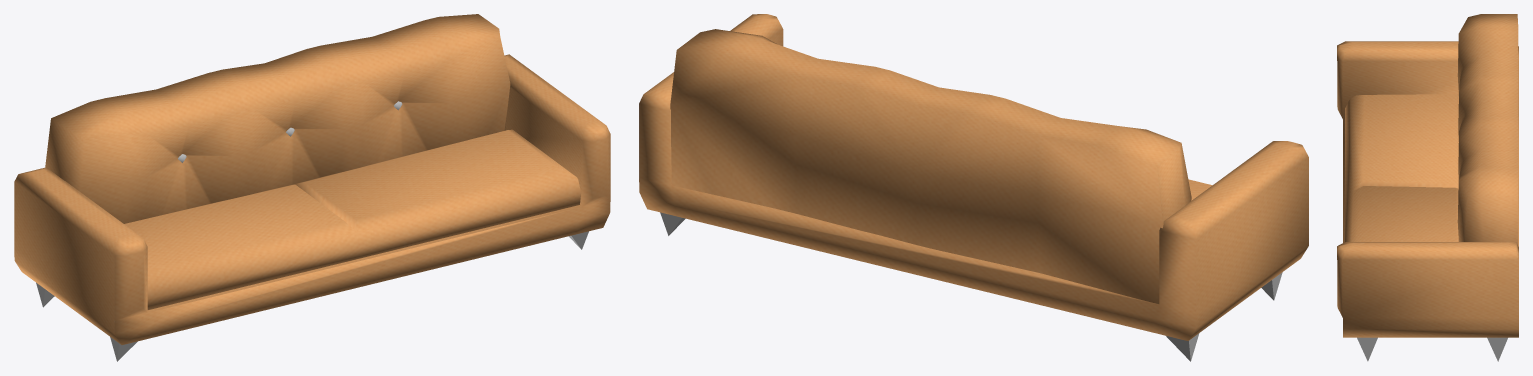
The model's file is Sofa_C_3.FBX.
The picture shows the model from 3 angles, left to right: view 1: azimuth 30°, elevation 25°; view 2: azimuth 150°, elevation 25°; view 3: azimuth 270°, elevation 25°; orthographic projection. The views are drawn at different scales.
Parts seen in each view (by area): view 1: Sofa; view 2: Sofa; view 3: Sofa.
Boxes of the visible parts, x1,y1,x2,y2 form: Sofa: (14, 14, 610, 361); Sofa: (639, 14, 1308, 361); Sofa: (1337, 14, 1518, 361).
Bounding box in the file's own units: 468 × 168 × 169.
